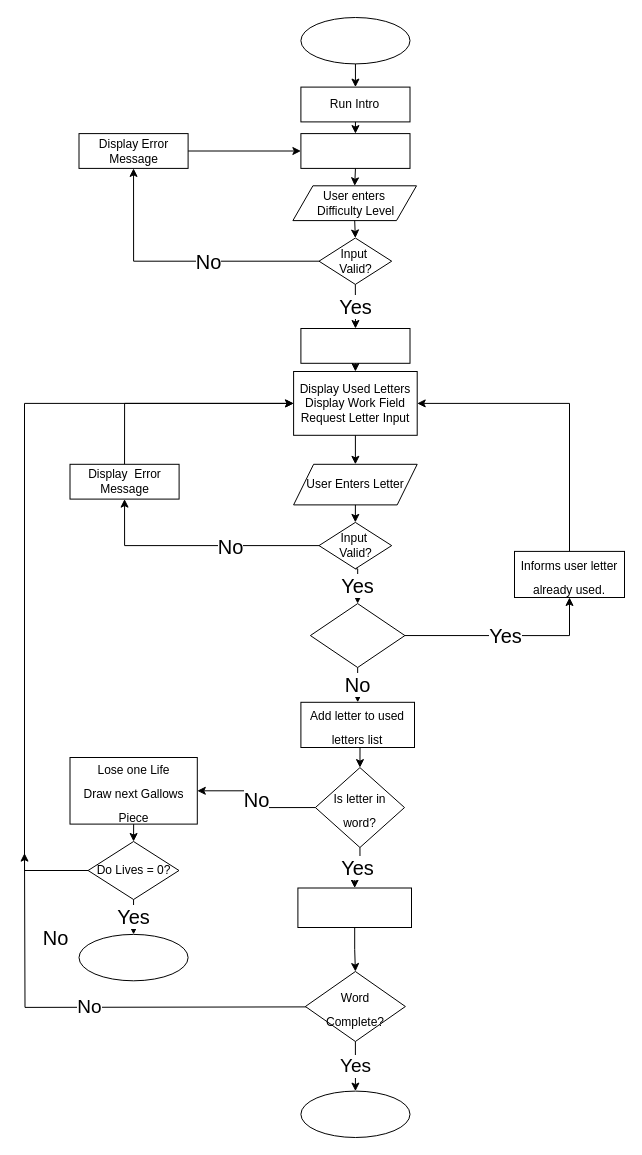
The diagram is 642 pixels wide and 1155 high, and some of its shapes have lost their labels. The shapes that lost their labels are listed below. From the top down, each one's centre as x and y in pixels, then its label:
the point at 355,40: Start Program
the point at 355,150: Request Level Selection
the point at 355,345: Choose word of appropriate level
the point at 357,635: Letter Already used?
the point at 354,907: Add letter to word field
the point at 133,957: Game Lost
the point at 355,1114: Game Won
